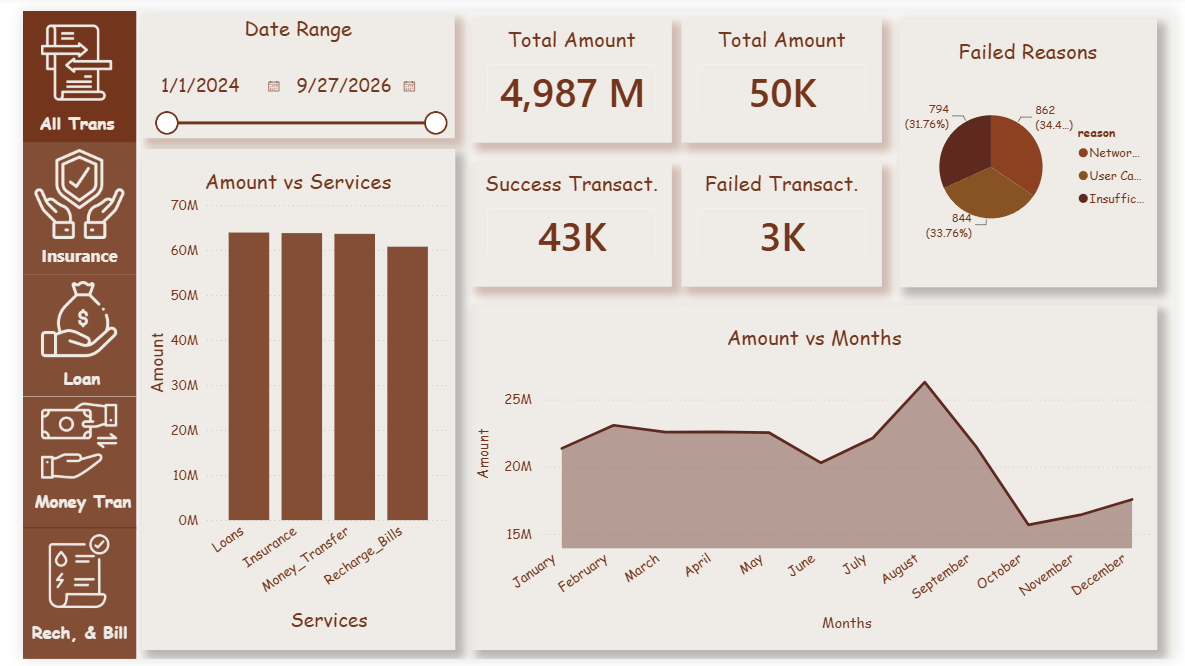

Layout of this report page (visuals, bound fields, positions):
{"tool":"powerbi","page":{"name":"Page 1","canvas":[1280,720],"ordinal":0},"visuals":[{"type":"shape","box":[0,0,125.9,146.6],"z":0},{"type":"shape","box":[0,574.1,125.9,146.6],"z":1000},{"type":"shape","box":[0,146.6,125.9,146.6],"z":2000},{"type":"shape","box":[0,293.1,125.9,134.5],"z":3000},{"type":"shape","box":[0,427.6,125.9,146.6],"z":4000},{"type":"image","box":[20.7,8,84.5,98.3],"z":5000},{"type":"image","box":[10.3,154,105.2,100],"z":6000},{"type":"image","box":[20.7,574.1,84.5,98.3],"z":7000},{"type":"image","box":[20.7,427.6,84.5,98.3],"z":8000},{"type":"image","box":[20.7,293.1,84.5,98.3],"z":9000},{"type":"textbox","box":[0,253.4,125.9,36.2],"z":10000},{"type":"textbox","box":[0,389.7,131,37.9],"z":11000},{"type":"textbox","box":[13.8,106.9,100,41.4],"z":12000},{"type":"textbox","box":[0,525.9,125.9,36.2],"z":13000},{"type":"textbox","box":[0,672.4,125.9,37.9],"z":14000},{"type":"slicer","title":"Date Range","fields":{"Values":["All_Transactions.date"]},"box":[131.7,3.3,348.3,137.9],"z":15000},{"type":"cardVisual","title":"Total Amount","fields":{"Data":["All_Transactions.Total Sales (M)"]},"box":[498.3,8.3,222.4,137.9],"z":16000},{"type":"cardVisual","title":"Total Amount","fields":{"Data":["CountNonNull(All_Transactions.Transaction_id)"]},"box":[731.7,8.3,222.4,137.9],"z":17000},{"type":"cardVisual","title":"Success Transact.","fields":{"Data":["All_Transactions.Successful Transactions"]},"box":[498.3,168.3,222.4,137.9],"z":18000},{"type":"cardVisual","title":"Failed Transact.","fields":{"Data":["All_Transactions.Failed Transactions"]},"box":[731.7,168.3,222.4,137.9],"z":19000},{"type":"pieChart","title":"Failed Reasons","fields":{"Category":["All_Transactions.reason"],"Y":["CountNonNull(All_Transactions.reason)"]},"box":[973.3,8.3,286.7,298.3],"z":19001},{"type":"areaChart","title":"Amount vs Months","fields":{"Category":["All_Transactions.date.Variation.Date Hierarchy.Month"],"Y":["Sum(All_Transactions.amount)"]},"box":[498.3,326.7,761.7,383.3],"z":19002},{"type":"clusteredColumnChart","title":"Amount vs Services","fields":{"Category":["All_Transactions.service"],"Y":["Sum(All_Transactions.amount)"]},"box":[131.7,153.3,348.3,556.7],"z":19003}]}

Visuals, with their boxes in screenshot pixels (x1, y1, x2, y2), scaled from the page's 1280x720 canvas onto the 1185x666 screenshot:
shape: left=0, top=0, right=117, bottom=136
shape: left=0, top=531, right=117, bottom=665
shape: left=0, top=136, right=117, bottom=271
shape: left=0, top=271, right=117, bottom=396
shape: left=0, top=396, right=117, bottom=531
image: left=19, top=7, right=97, bottom=98
image: left=10, top=142, right=107, bottom=235
image: left=19, top=531, right=97, bottom=622
image: left=19, top=396, right=97, bottom=486
image: left=19, top=271, right=97, bottom=362
textbox: left=0, top=234, right=117, bottom=268
textbox: left=0, top=360, right=121, bottom=396
textbox: left=13, top=99, right=105, bottom=137
textbox: left=0, top=486, right=117, bottom=520
textbox: left=0, top=622, right=117, bottom=657
"Date Range" slicer: left=122, top=3, right=444, bottom=131
"Total Amount" cardVisual: left=461, top=8, right=667, bottom=135
"Total Amount" cardVisual: left=677, top=8, right=883, bottom=135
"Success Transact." cardVisual: left=461, top=156, right=667, bottom=283
"Failed Transact." cardVisual: left=677, top=156, right=883, bottom=283
"Failed Reasons" pieChart: left=901, top=8, right=1166, bottom=284
"Amount vs Months" areaChart: left=461, top=302, right=1166, bottom=657
"Amount vs Services" clusteredColumnChart: left=122, top=142, right=444, bottom=657
